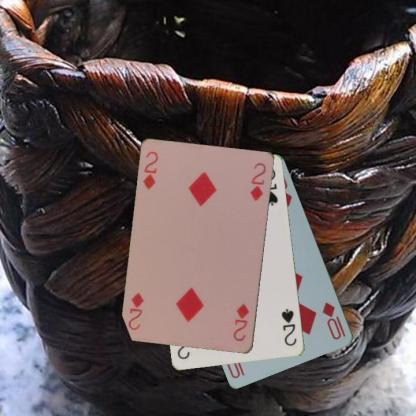10d: (320, 300, 347, 342)
2d: (140, 148, 160, 192), (230, 301, 250, 343)
2s: (279, 306, 298, 348)
